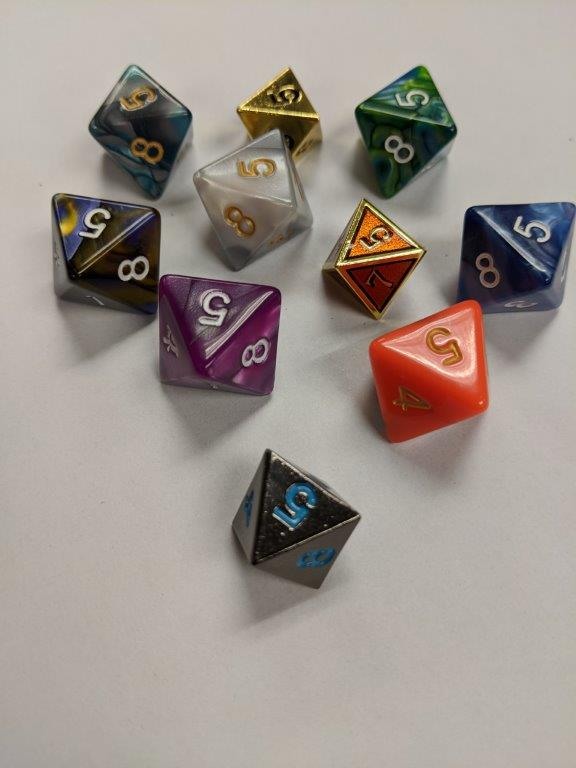d8-5: (229, 449, 360, 589), (369, 297, 492, 444), (195, 127, 318, 274), (158, 270, 282, 393), (88, 64, 194, 199), (353, 64, 456, 199), (50, 192, 162, 314), (320, 197, 428, 320), (461, 203, 576, 318), (239, 68, 319, 169)
